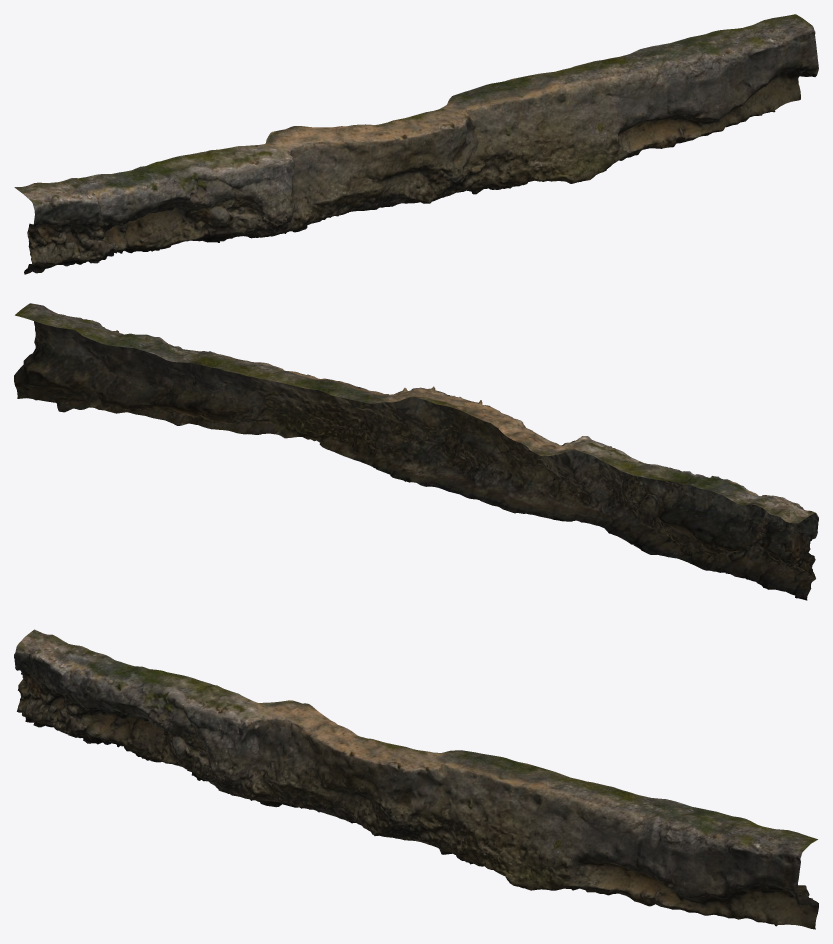
3 renders of one model, top to bottom at view 1: azimuth 30°, elevation 25°; view 2: azimuth 150°, elevation 25°; view 3: azimuth 330°, elevation 25°, orthographic. The views are drawn at different scales.
Parts seen in each view (by area): view 1: coastal_cliff_01; view 2: coastal_cliff_01; view 3: coastal_cliff_01.
Part boxes in pixels (x1,y1,x2,y2): coastal_cliff_01: [14, 14, 818, 274]; coastal_cliff_01: [14, 303, 818, 600]; coastal_cliff_01: [14, 629, 818, 929].
Bounding box in the file's own units: 91.98 × 10.29 × 10.96.
Materials: 1 (1 with a texture image).
